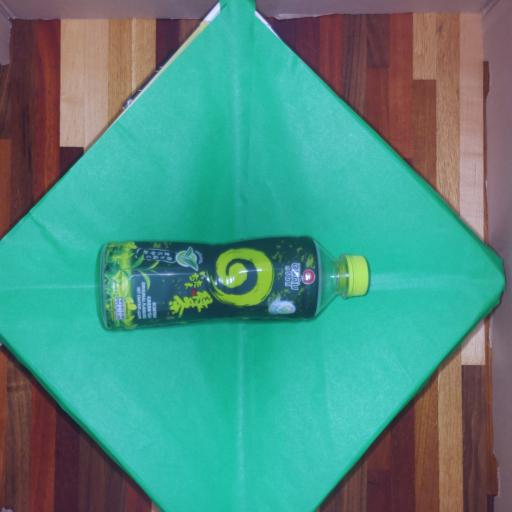bottle: (74, 216, 381, 348)
